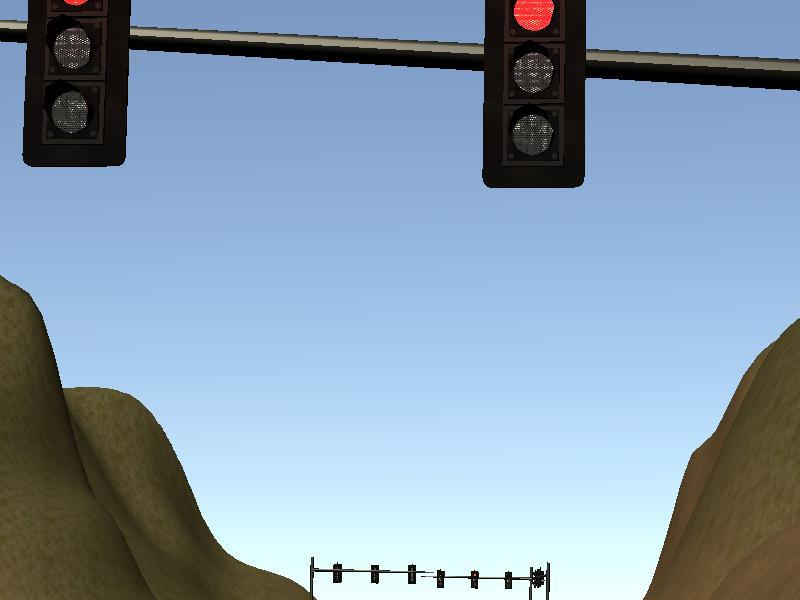Red: (487, 1, 583, 184)
